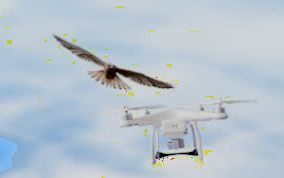Bird: (47, 30, 176, 95)
Drone: (108, 97, 253, 167)
